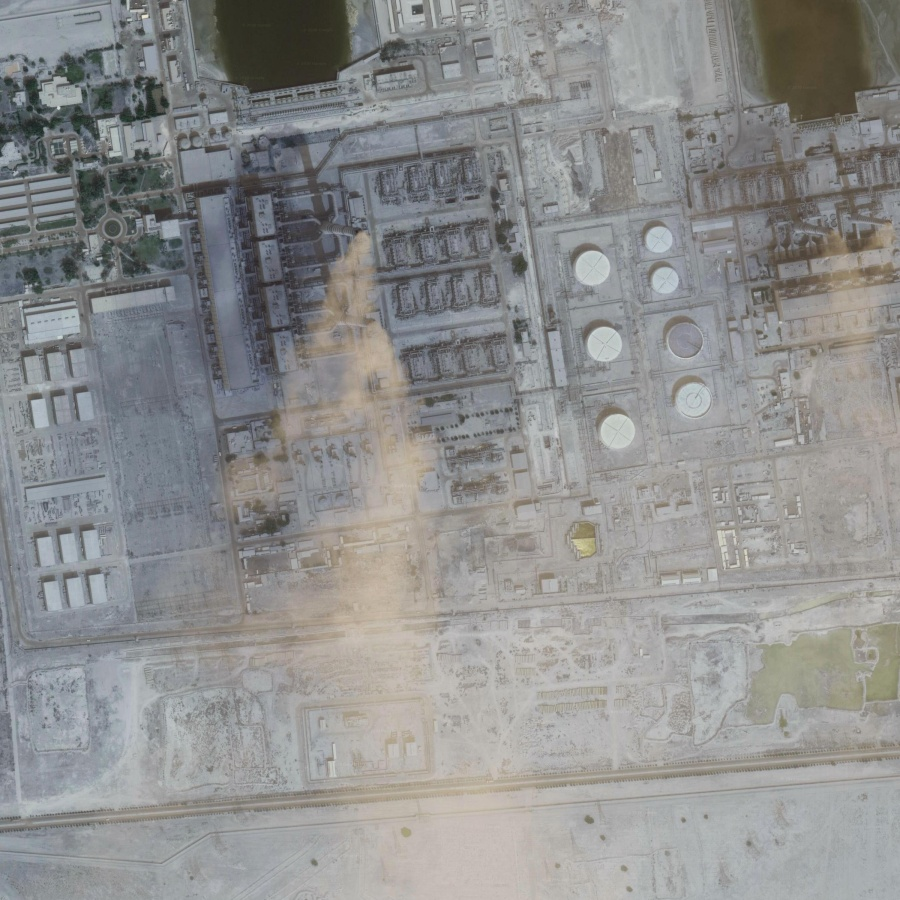PowerPlant: (198, 86, 728, 562)
